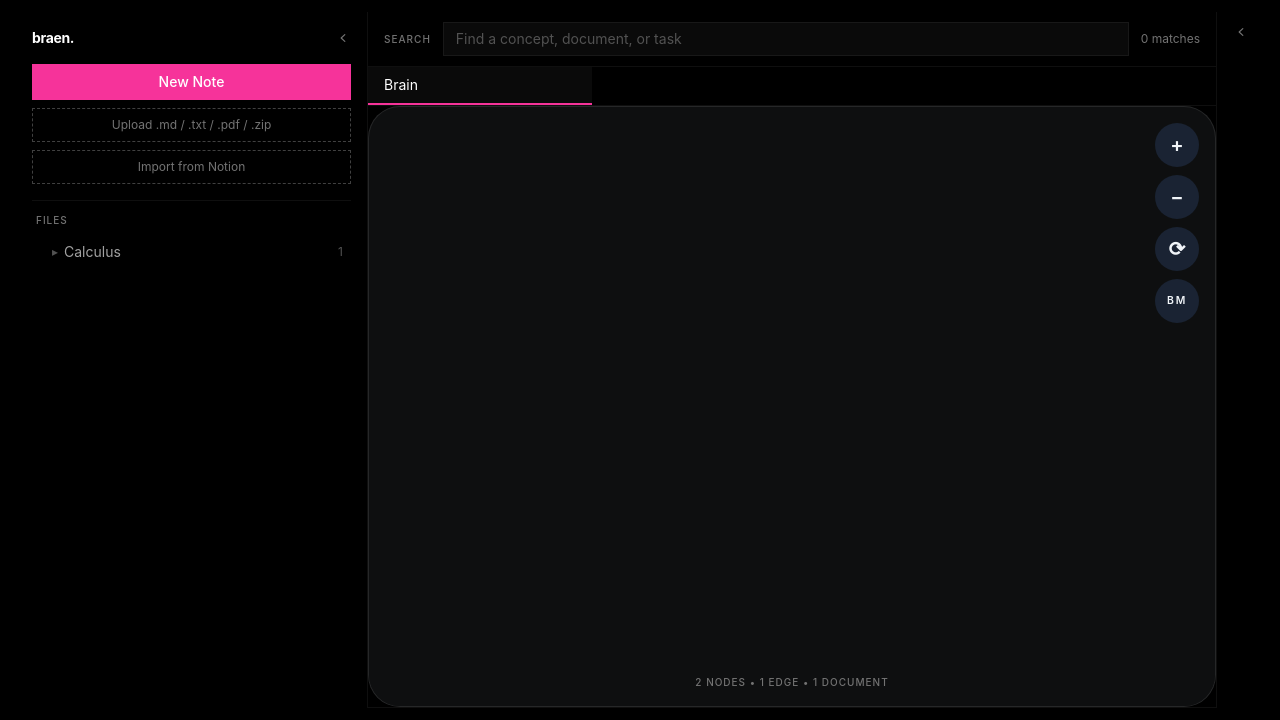
App › collapses and expands the sidebar when toggle is clicked
The width and height of the screenshot is (1280, 720).
Note: Click to collapse
Click the button named "Collapse sidebar" at (343, 38), box [335,30,351,46]
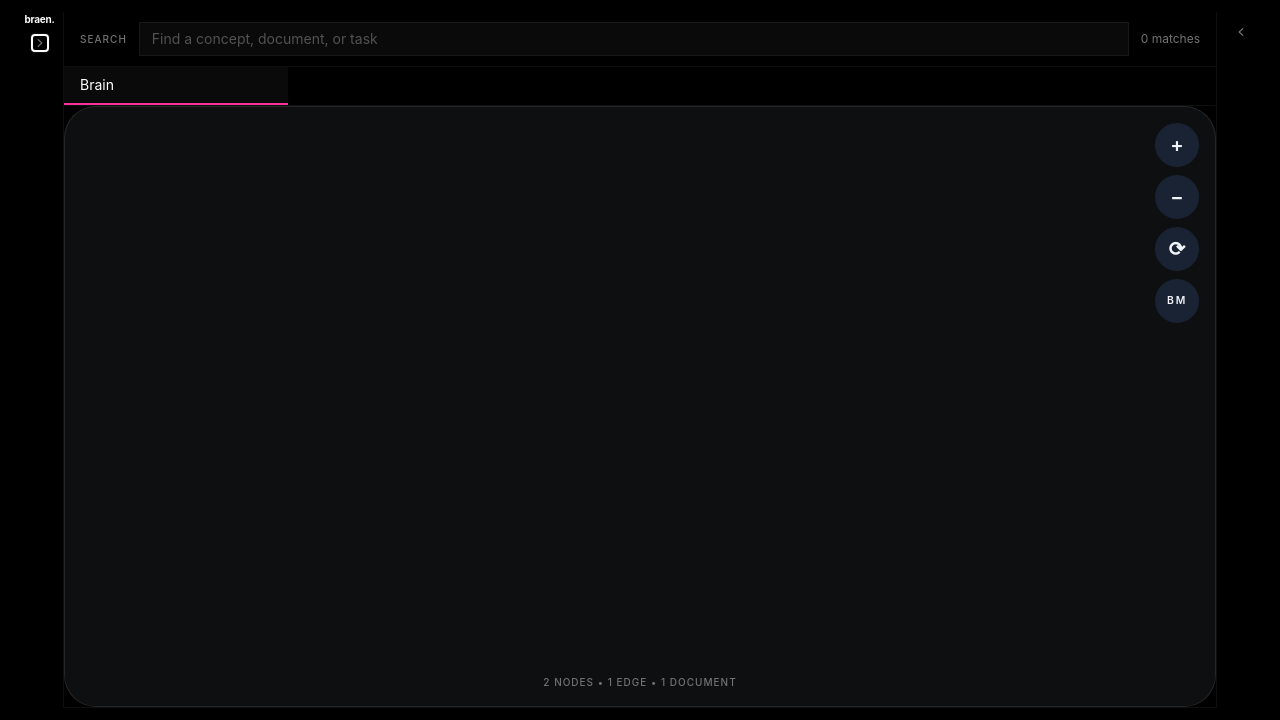
Result: the button named "Expand sidebar" is shown
Note: Click to expand
Click the button named "Expand sidebar" at (40, 43), box [32,35,48,51]
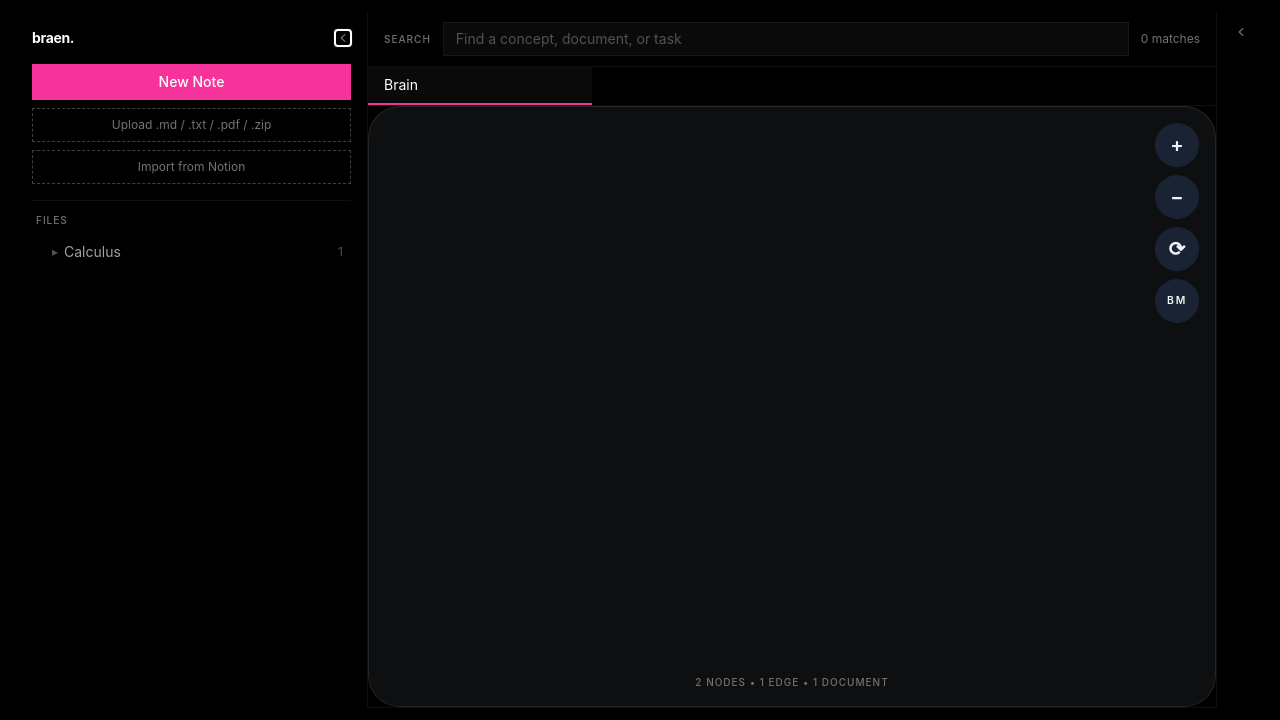
Result: the button named "Collapse sidebar" is shown at [335,30,351,46]
